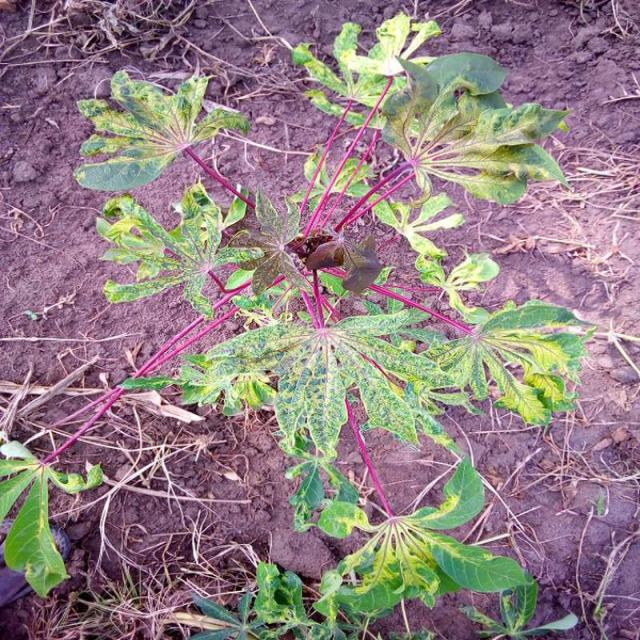cassava leaf: (72, 67, 249, 194)
